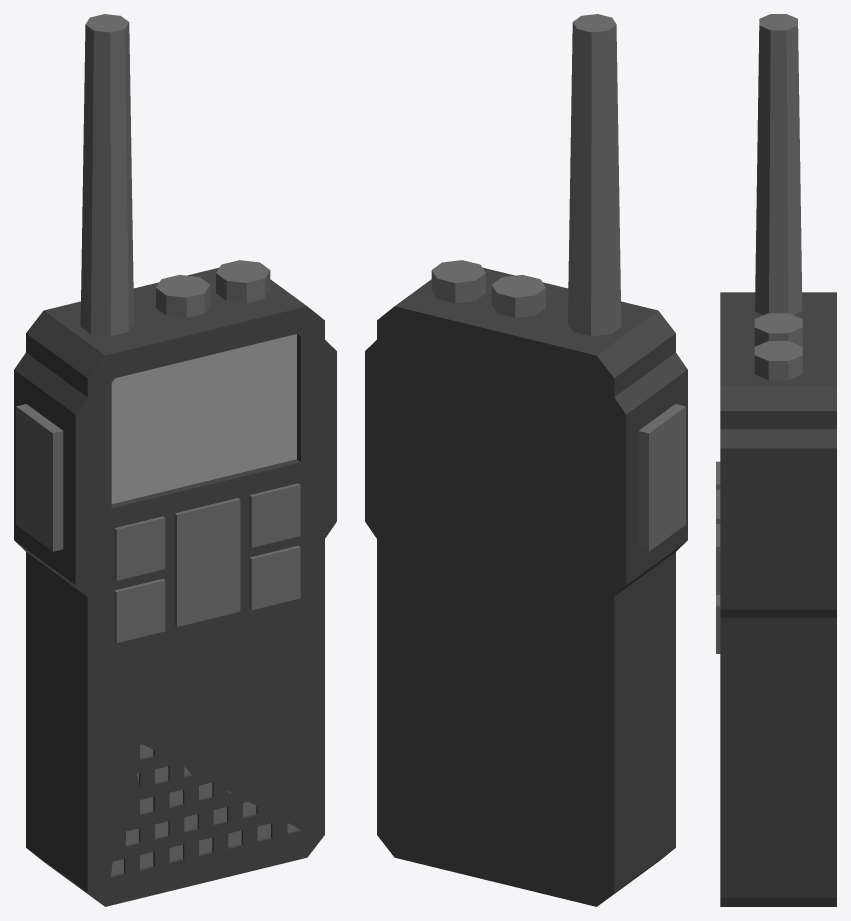
Rendered from Walkie-talkies_01.fbx.
3 views of the same model, side by side, from view 1: azimuth 30°, elevation 25°; view 2: azimuth 150°, elevation 25°; view 3: azimuth 270°, elevation 25° (orthographic). The views are drawn at different scales.
Visible parts, largest first — view 1: Walkie-talkies_01; view 2: Walkie-talkies_01; view 3: Walkie-talkies_01.
Part boxes in pixels (x1,y1,x2,y2): Walkie-talkies_01: (14, 14, 336, 906); Walkie-talkies_01: (365, 14, 687, 906); Walkie-talkies_01: (716, 14, 836, 906).
Size of the model in its own units: 7.61 by 22.85 by 3.11.
